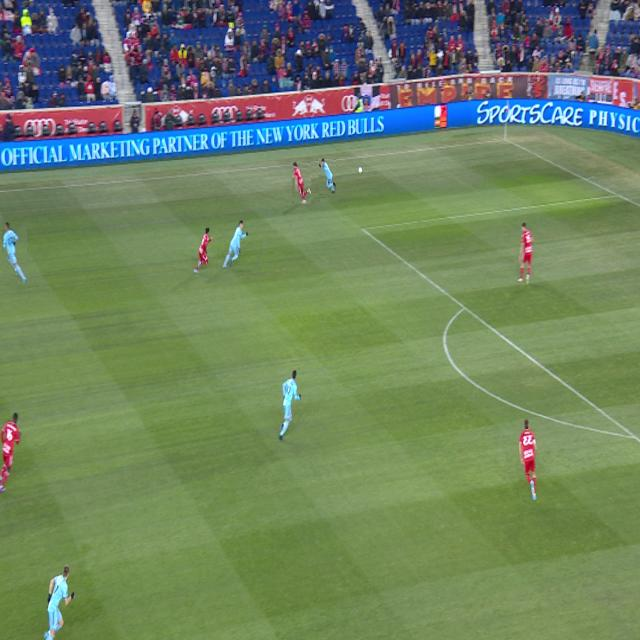football: (358, 167, 363, 174)
player: (44, 566, 75, 640), (0, 413, 21, 492), (279, 370, 302, 439), (3, 223, 27, 284), (519, 419, 537, 500), (222, 220, 248, 269), (518, 223, 534, 286), (194, 227, 212, 274), (293, 162, 311, 204), (319, 158, 336, 194)
